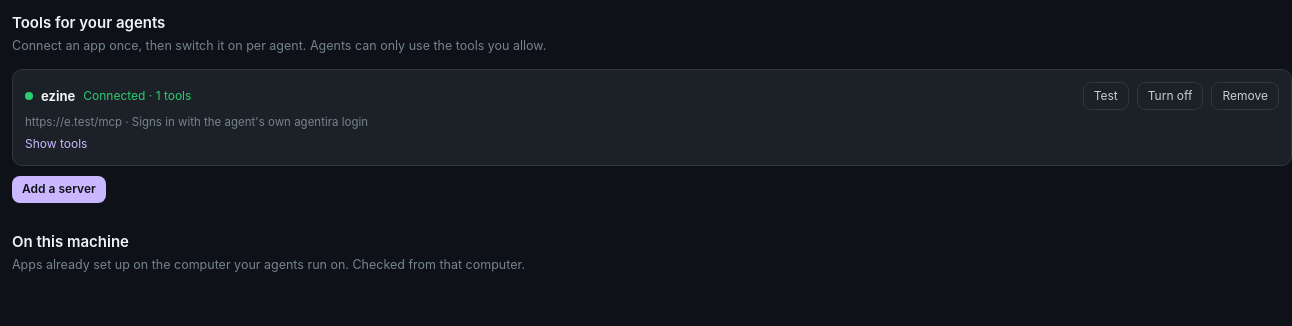
Scenario: McpServersPanel › shows connection status and tools
Expected: the text "Connected · 1 tools" is shown, [83,88,191,102]
Click the button "Show tools".
click(56, 142)  # box [25,130,87,153]
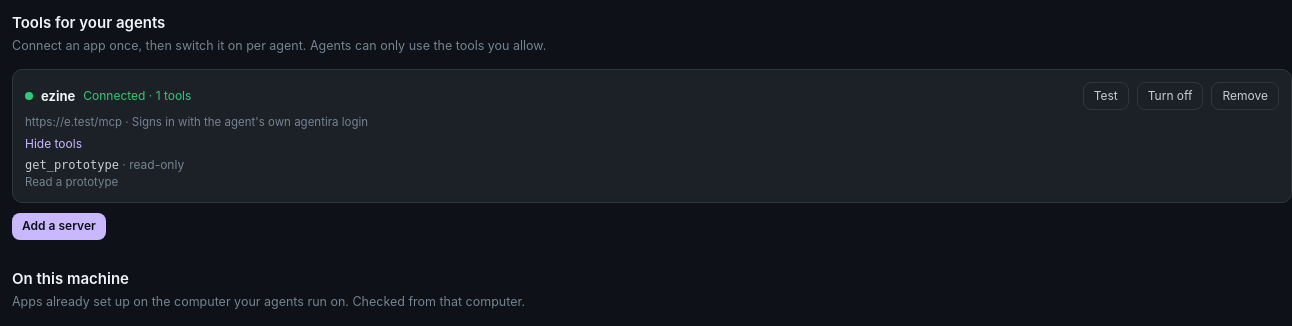
Expected: the text "get_prototype" is shown, [25,158,119,172]
